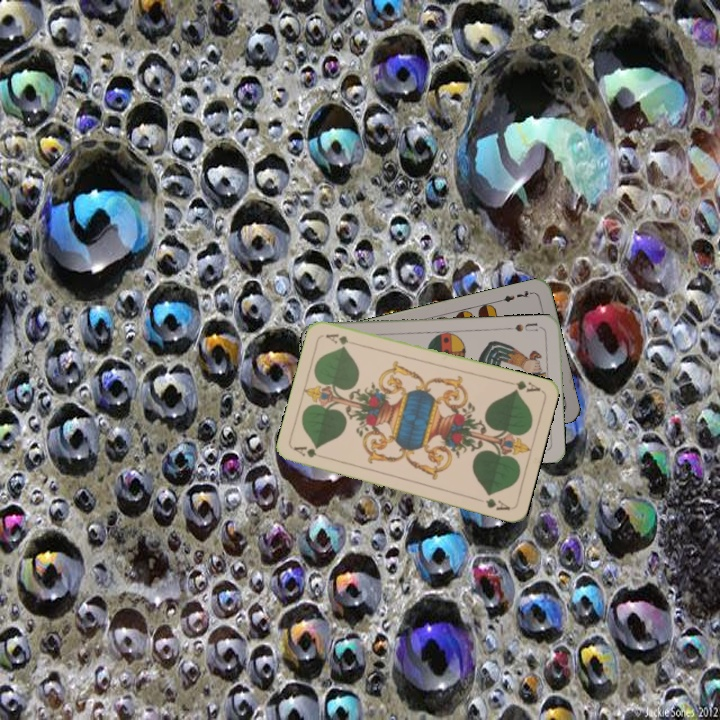E7: (495, 287, 535, 305)
GA: (290, 442, 330, 462), (503, 376, 543, 395)
SU: (504, 319, 545, 334)
